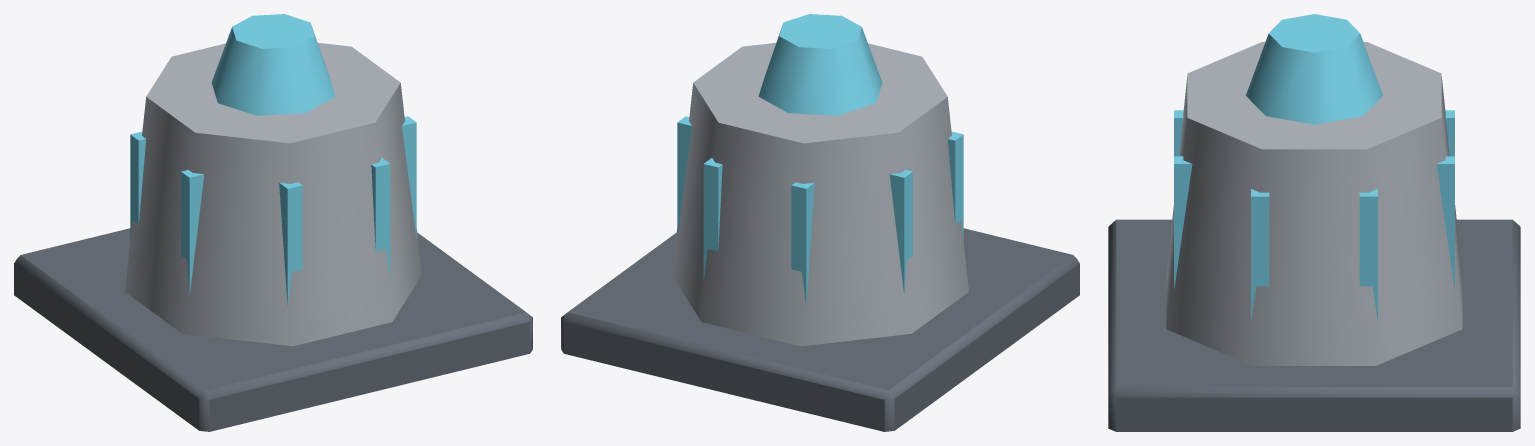
The model's file is ship_computer_core.obj.
The picture shows the model from 3 angles, left to right: view 1: azimuth 30°, elevation 25°; view 2: azimuth 150°, elevation 25°; view 3: azimuth 270°, elevation 25°; orthographic projection. The views are drawn at different scales.
Parts seen in each view (by area): view 1: retained_5, computer_base, retained_54, retained_39, retained_34, retained_44, retained_29, retained_49; view 2: retained_5, computer_base, retained_54, retained_24, retained_29, retained_19, retained_34, retained_14; view 3: retained_5, computer_base, retained_54, retained_14, retained_49, retained_19, retained_44.
Boxes of the visible parts, x1,y1,x2,y2 form: retained_5: (125,43,421,346); computer_base: (14,228,532,431); retained_54: (211,14,335,115); retained_39: (279,182,302,305); retained_34: (181,170,204,294); retained_44: (371,158,390,279); retained_29: (130,131,146,240); retained_49: (402,116,416,238); retained_5: (672,43,968,346); computer_base: (561,228,1079,431); retained_54: (758,14,882,115); retained_24: (791,182,814,305); retained_29: (889,170,912,294); retained_19: (703,158,722,279); retained_34: (947,131,963,240); retained_14: (677,116,691,238); retained_5: (1166,42,1462,365); computer_base: (1108,219,1520,431); retained_54: (1246,14,1382,124); retained_14: (1359,189,1377,320); retained_49: (1251,189,1269,320); retained_19: (1436,156,1454,288); retained_44: (1174,156,1192,288).
Bounding box in the file's own units: 1.8 × 1.5 × 1.8.
